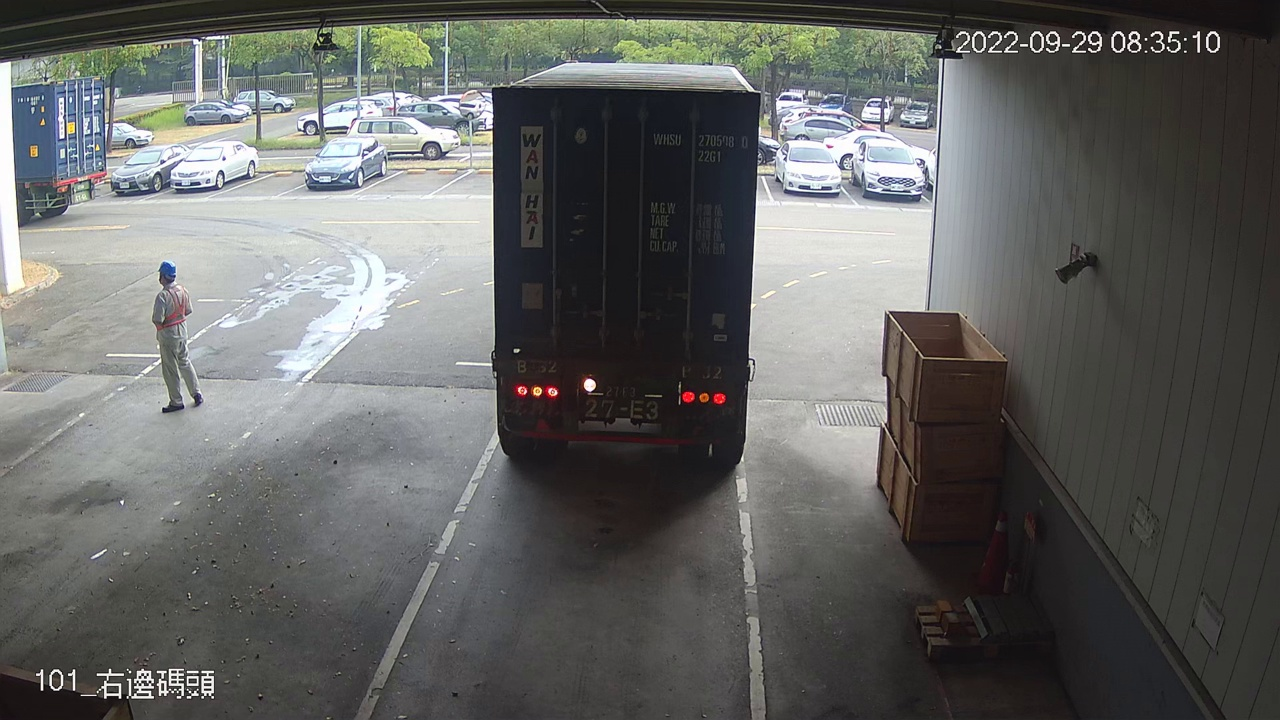container: (648, 125, 751, 168)
